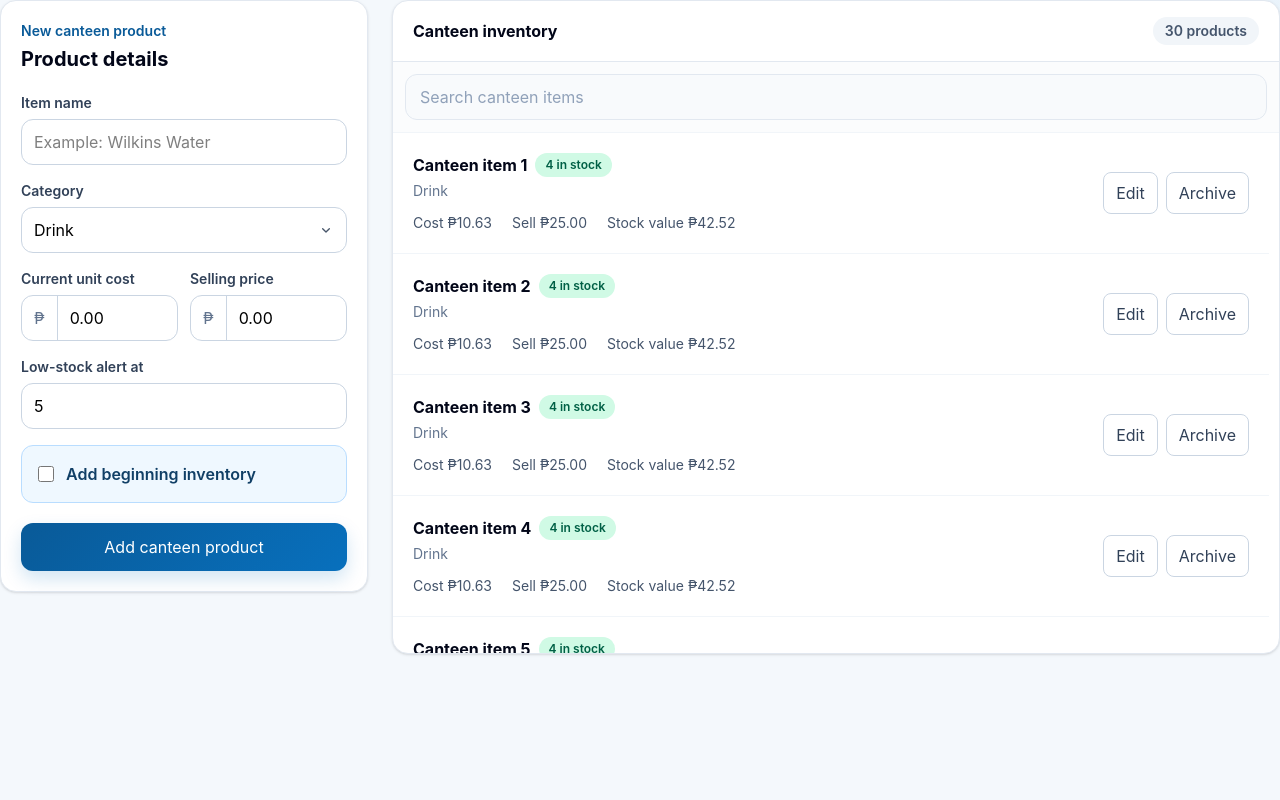
Phase 6 canteen inventory forms › keeps a long canteen inventory scrollable and searchable
Expected: the text "30 products" is shown, [1153,17,1259,45]
Type "item 30" into the search field named "Search canteen inventory".
click(836, 97); type("item 30")  # box [405,74,1267,120]
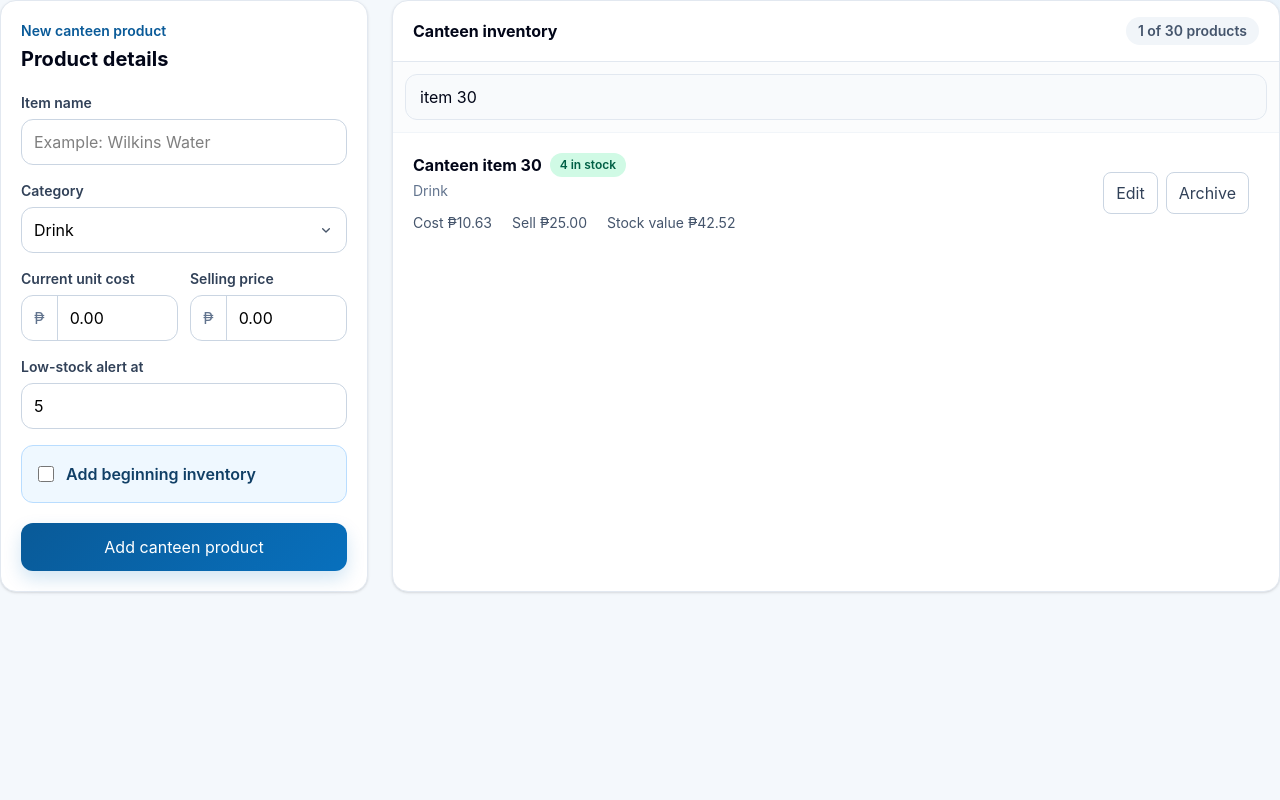
Expected: the text "1 of 30 products" is shown, [1126,17,1259,45]
Expected: the heading "Canteen item 30" is shown, [413,153,542,177]
Expected: the heading "Canteen item 1" is gone
